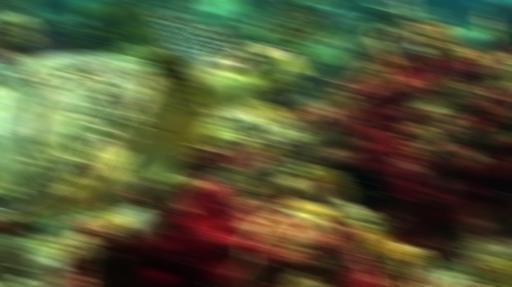Fish: (0, 16, 303, 219)
